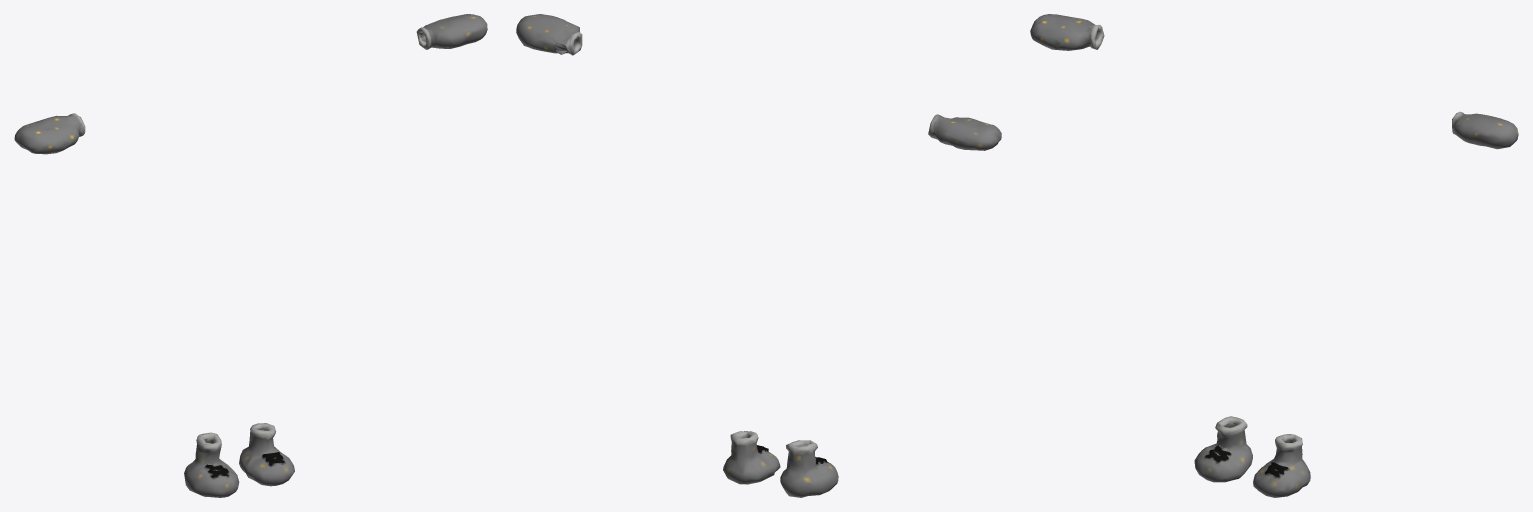
Rendered from graveyard shoes and gloves.glb.
3 views of the same model, side by side, from view 1: azimuth 30°, elevation 25°; view 2: azimuth 150°, elevation 25°; view 3: azimuth 330°, elevation 25° (orthographic). The views are drawn at different scales.
Visible parts, largest first — view 1: accessories_christmas_graveyard.001; view 2: accessories_christmas_graveyard.001; view 3: accessories_christmas_graveyard.001.
Part boxes in pixels (box(x1,y1,x2,y2)): accessories_christmas_graveyard.001: box(14, 14, 487, 497); accessories_christmas_graveyard.001: box(516, 14, 1001, 497); accessories_christmas_graveyard.001: box(1030, 14, 1518, 497).
Size of the model in its own units: 1.01 by 0.8412 by 0.1311.
1 material, 1 textured.
